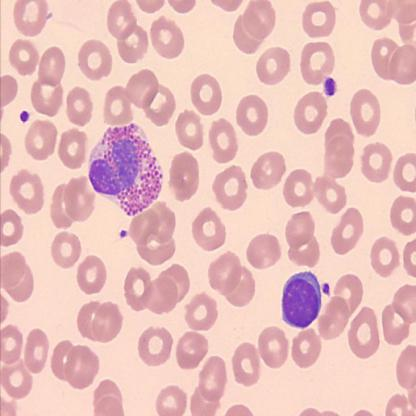Eosinophil: (87, 122, 162, 217)
